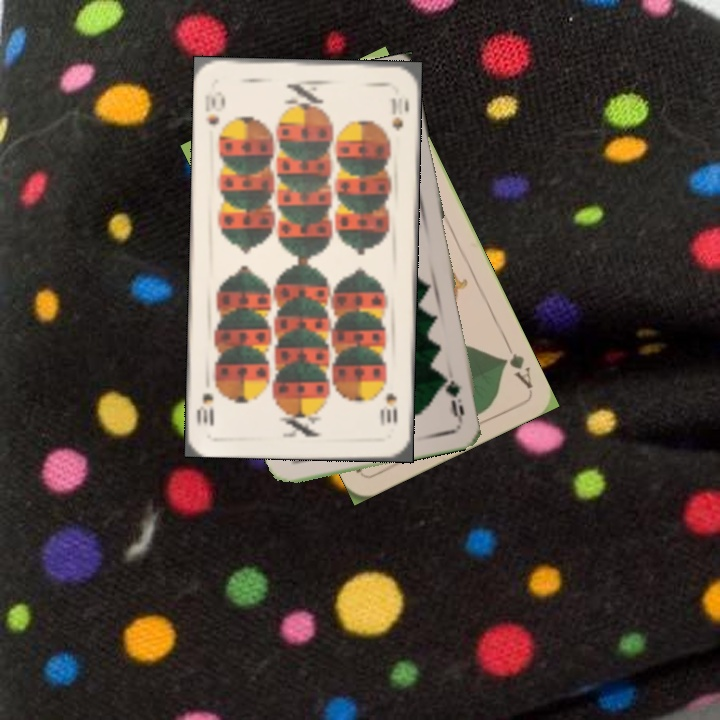G9: (445, 376, 467, 424)
GA: (497, 337, 535, 392)
S10: (201, 87, 227, 128), (378, 389, 400, 429)
